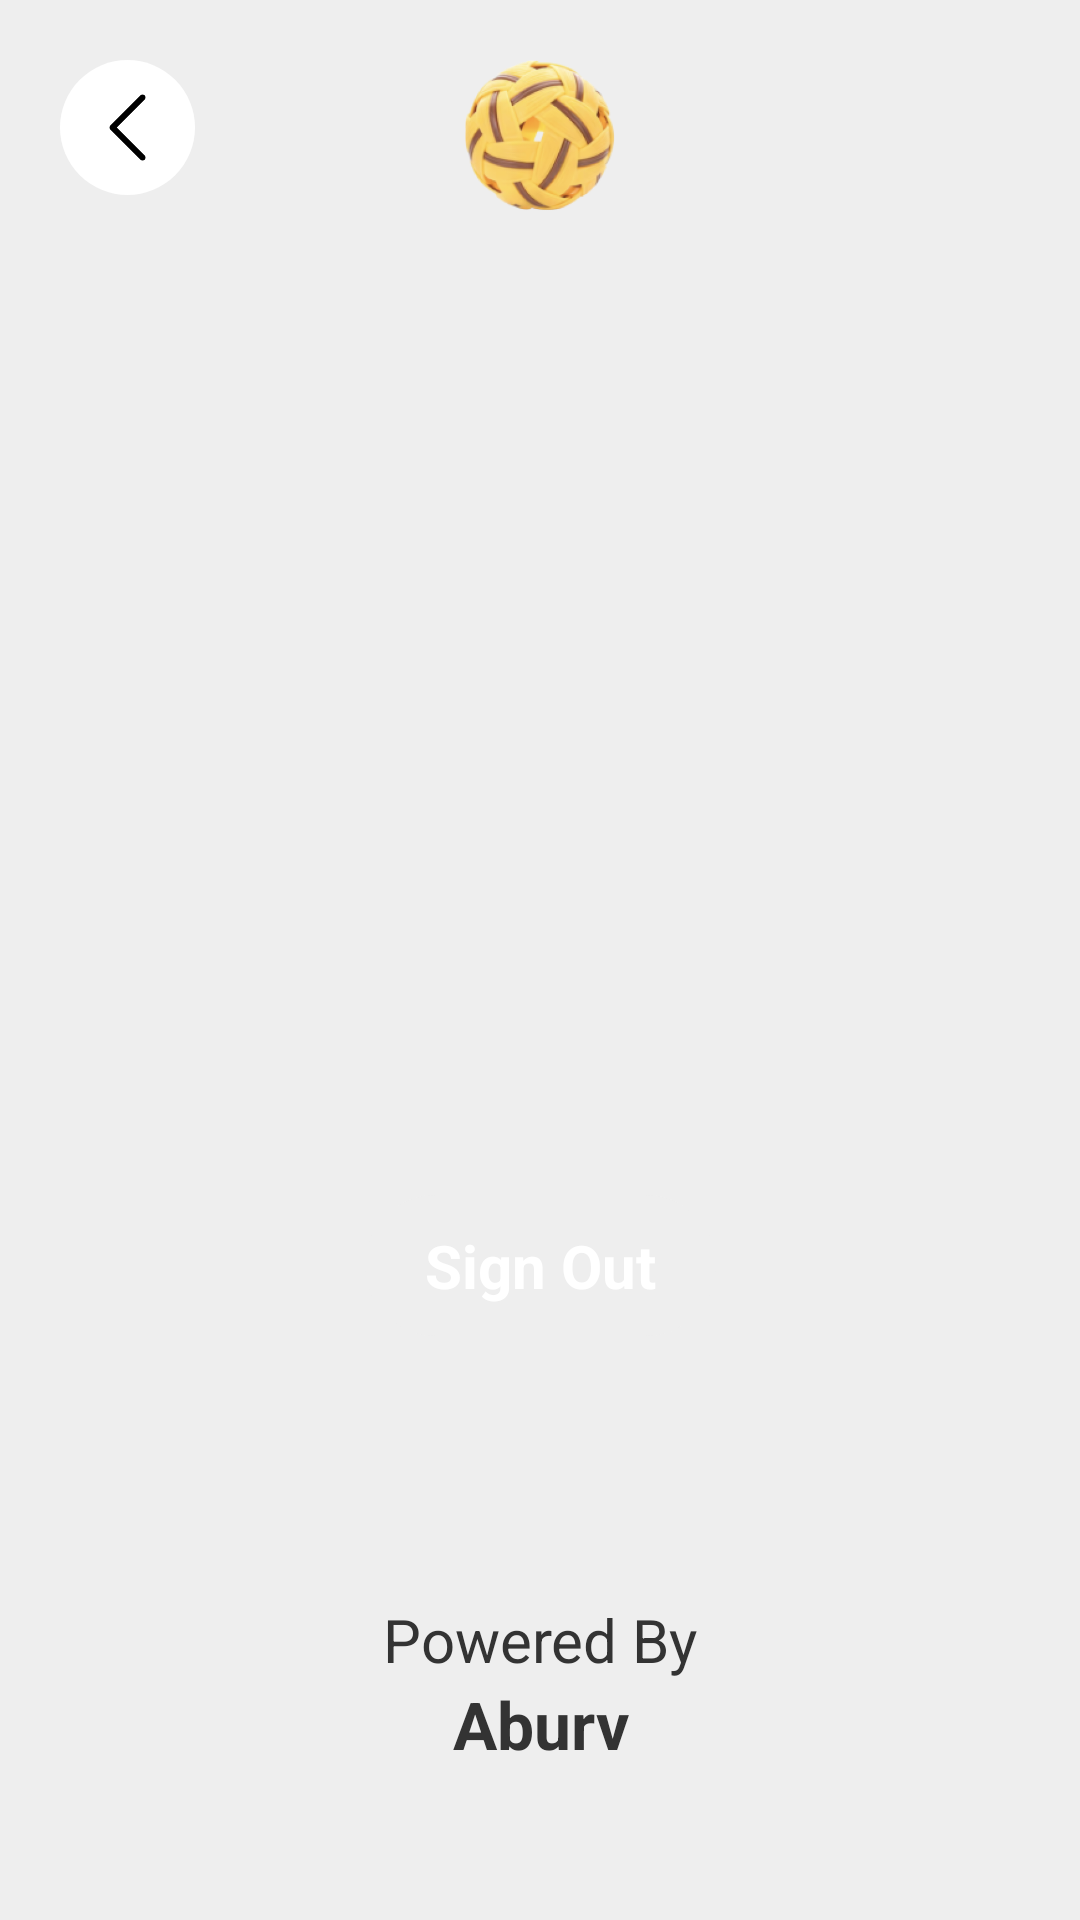

Where to tap for icons on this 1080x1920 app screen, as [x,y]:
left arrow: [127,127]
